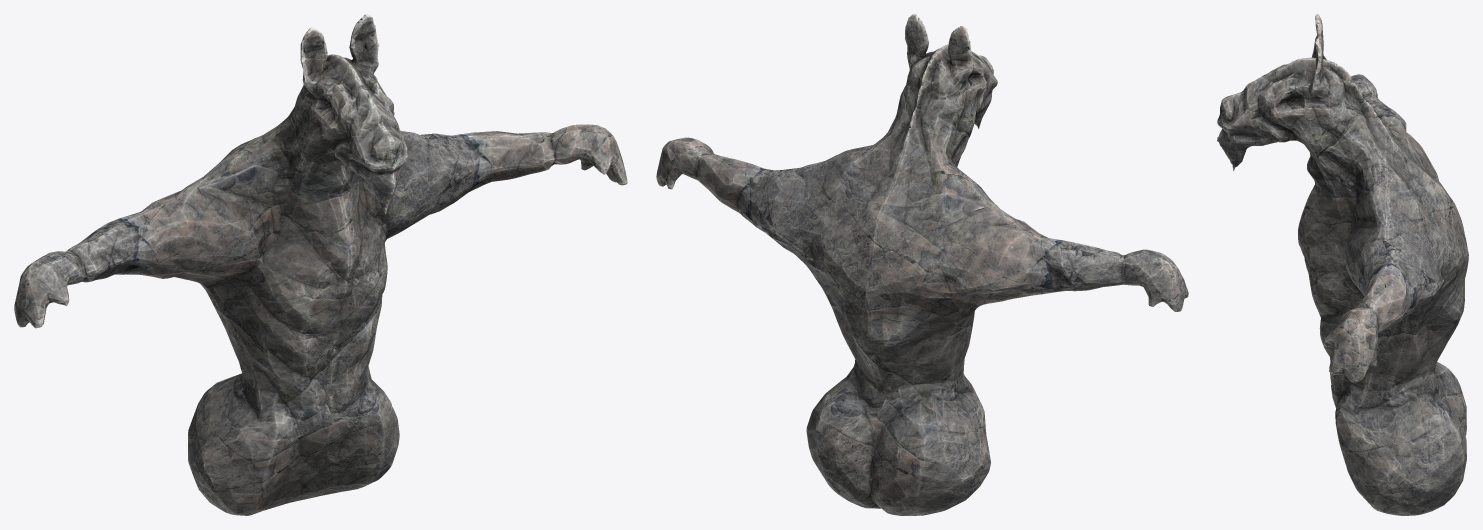
The model's file is bust.fbx.
3 views of the same model, side by side, from view 1: azimuth 30°, elevation 25°; view 2: azimuth 150°, elevation 25°; view 3: azimuth 270°, elevation 25° (orthographic). The views are drawn at different scales.
Visible parts, largest first — view 1: sculp01; view 2: sculp01; view 3: sculp01.
Part boxes in pixels (x1,y1,x2,y2): sculp01: (14, 14, 627, 515); sculp01: (656, 14, 1188, 515); sculp01: (1217, 14, 1468, 515).
Bounding box in the file's own units: 1112 × 919 × 445.
